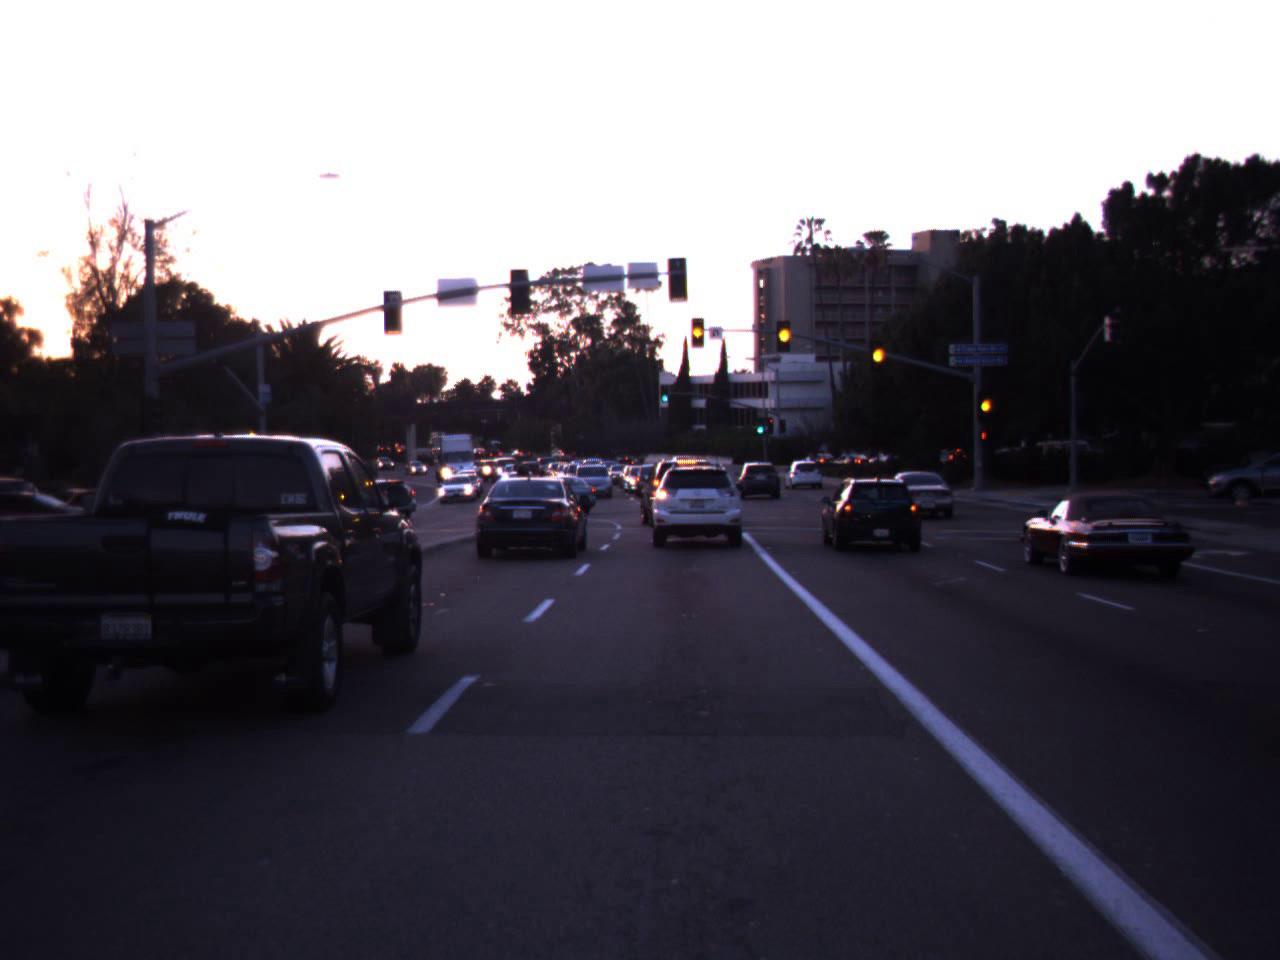go: (659, 378, 671, 403), (754, 412, 766, 432)
warning: (769, 306, 799, 360), (866, 328, 890, 377), (978, 381, 996, 426), (687, 318, 708, 345)
